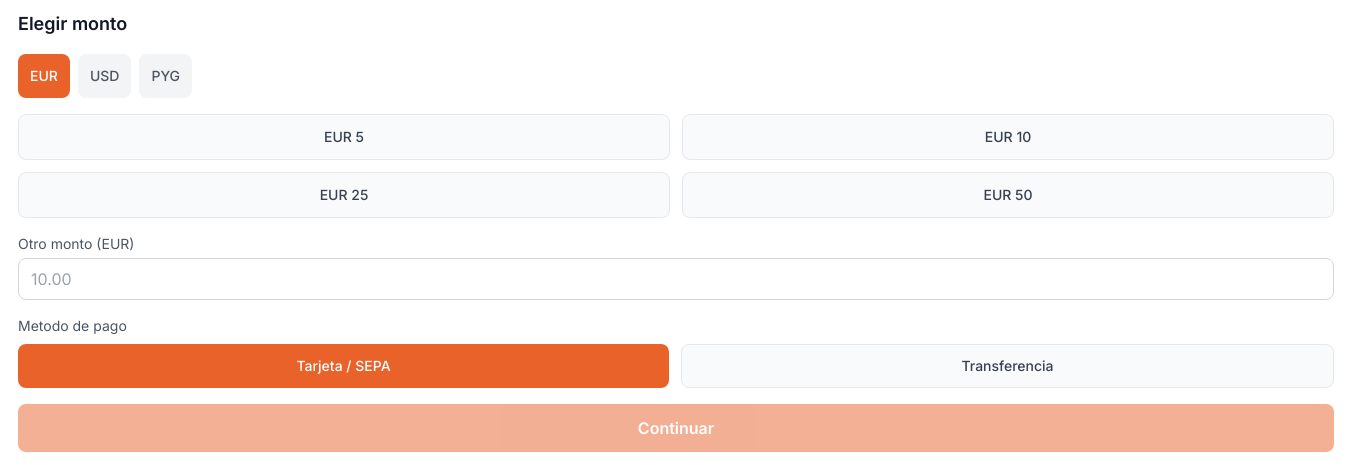
DonationForm — amount step › typing a custom amount enables Continue
This screenshot has width=1353, height=469.
Type "25" into the number field at (676, 279), box [18, 258, 1334, 300]
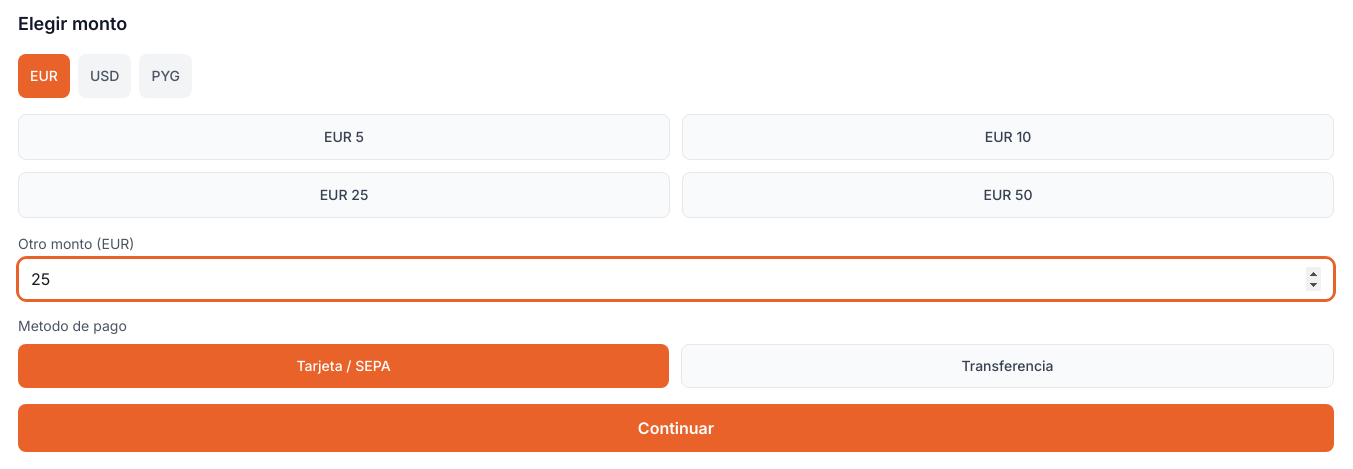
Result: the button "Continuar" is enabled at [18, 404, 1334, 452]
